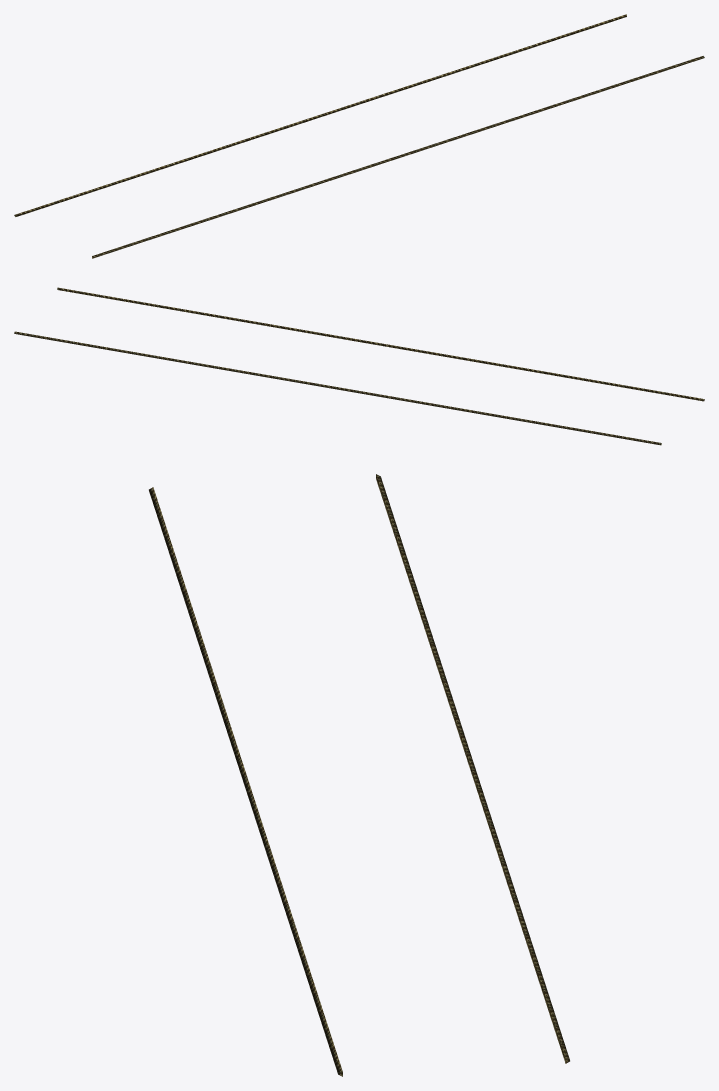
Rendered from SWORDLIGHT20_ROPE1.fbx.
The picture shows the model from 3 angles, top to bottom: view 1: azimuth 30°, elevation 25°; view 2: azimuth 150°, elevation 25°; view 3: azimuth 270°, elevation 25°; orthographic projection. The views are drawn at different scales.
Parts seen in each view (by area): view 1: SWORDLIGHT20_ROPE1; view 2: SWORDLIGHT20_ROPE1; view 3: SWORDLIGHT20_ROPE1.
Part boxes in pixels (x1,y1,x2,y2): SWORDLIGHT20_ROPE1: [14, 14, 704, 258]; SWORDLIGHT20_ROPE1: [14, 287, 704, 445]; SWORDLIGHT20_ROPE1: [149, 474, 569, 1076].
Size of the model in its own units: 162162 by 633 by 48309.
1 material, 1 textured.
